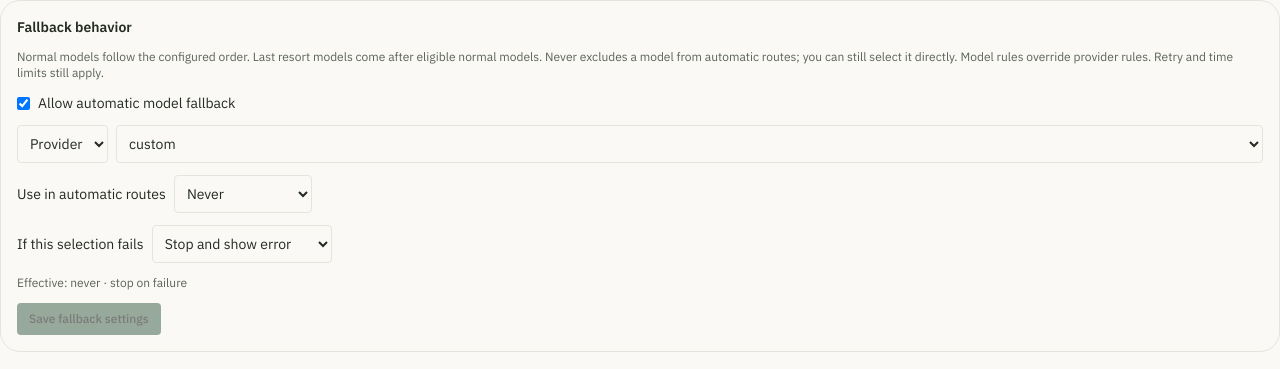
Test: clears model overrides to inherit provider preferences
Select "Model" in the dropdown named "Fallback rule scope" at (62, 144), box top-left (17, 125), bottom-right (108, 163)
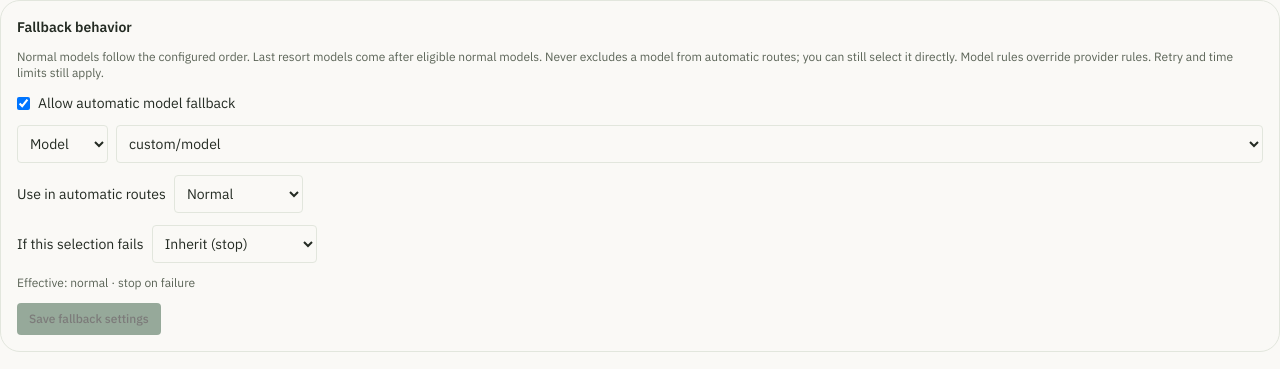
Select "Inherit (never)" in the dropdown named "Automatic fallback participation" at (238, 194), box top-left (174, 175), bottom-right (303, 213)
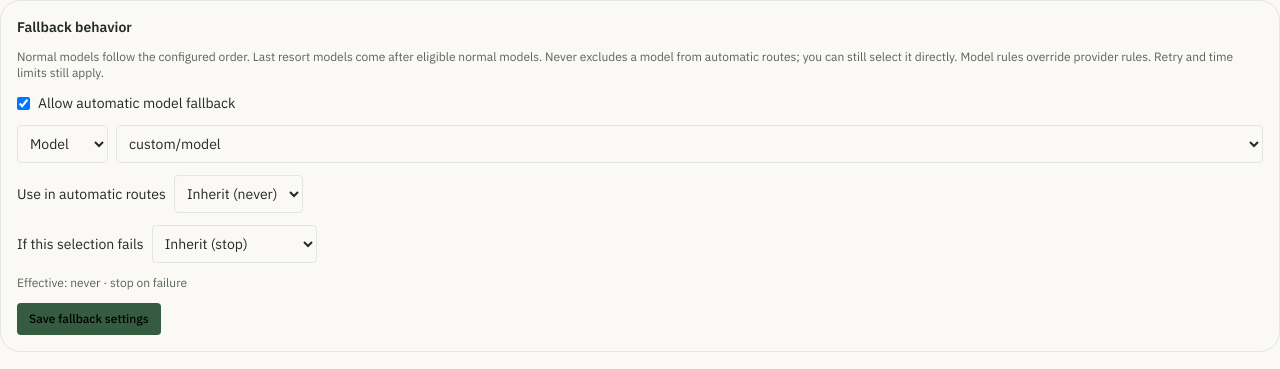
Check: the text "Effective: never · stop on failure" is shown, box top-left (17, 275), bottom-right (187, 290)
